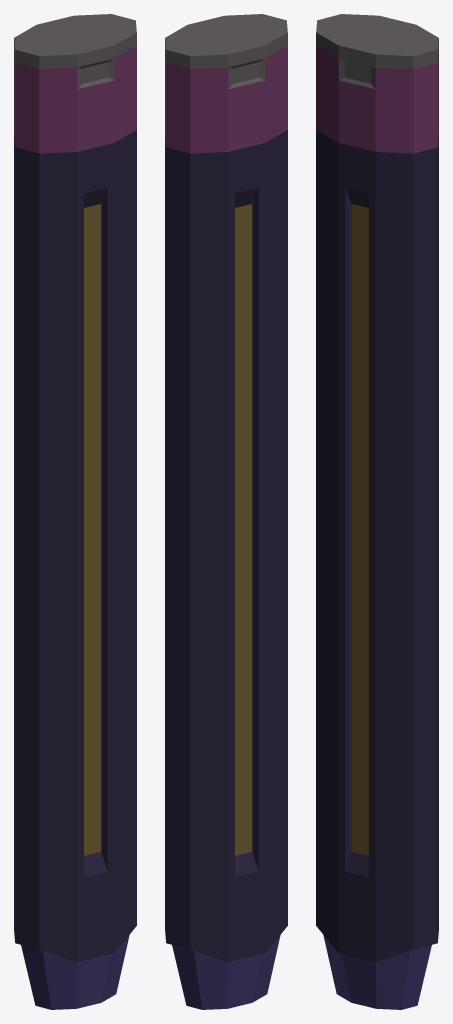
The model's file is autoinjector.glb.
3 views of the same model, side by side, from view 1: azimuth 30°, elevation 25°; view 2: azimuth 210°, elevation 25°; view 3: azimuth 330°, elevation 25° (orthographic).
Parts seen in each view (by area): view 1: Consumable - Autoinjector; view 2: Consumable - Autoinjector; view 3: Consumable - Autoinjector.
Part boxes in pixels (x1,y1,x2,y2): Consumable - Autoinjector: [14, 14, 136, 1009]; Consumable - Autoinjector: [165, 14, 287, 1009]; Consumable - Autoinjector: [316, 14, 438, 1009].
Size of the model in its own units: 0.0368 by 0.2799 by 0.0215.
